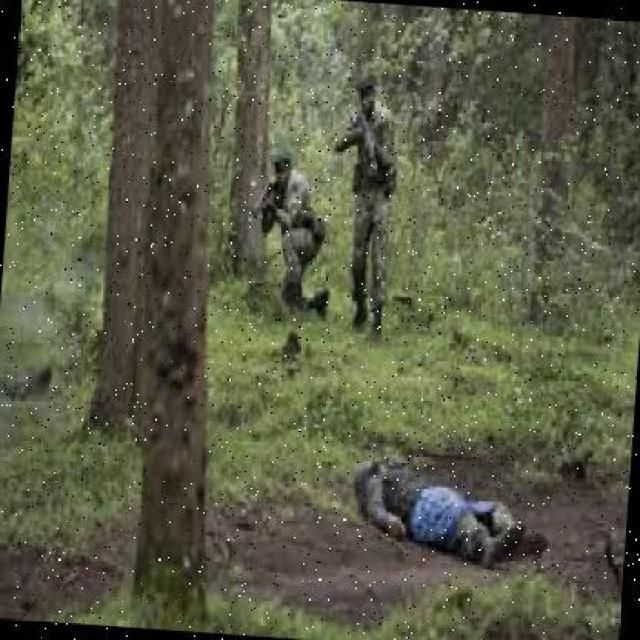poacher: (358, 436, 522, 574), (336, 77, 402, 331), (251, 150, 326, 312)
